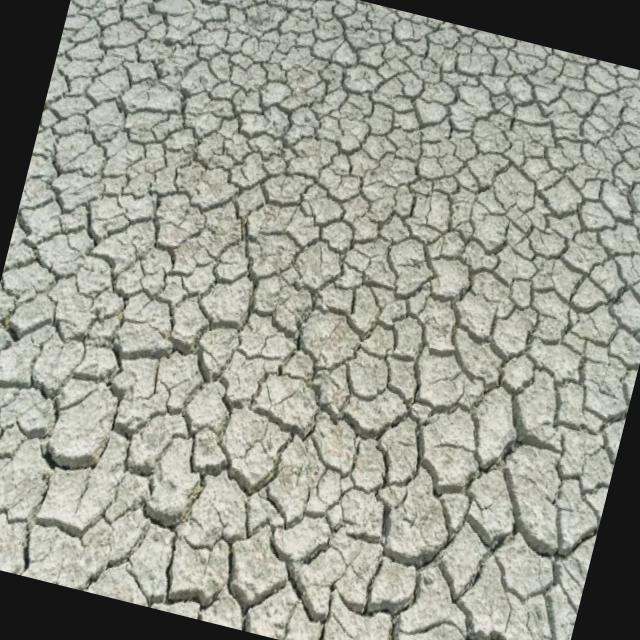suelo_seco: (114, 48, 540, 621)
